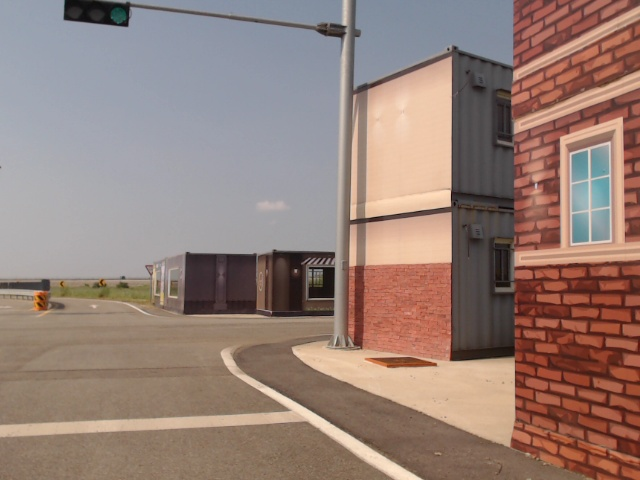green_3: (64, 0, 131, 29)
